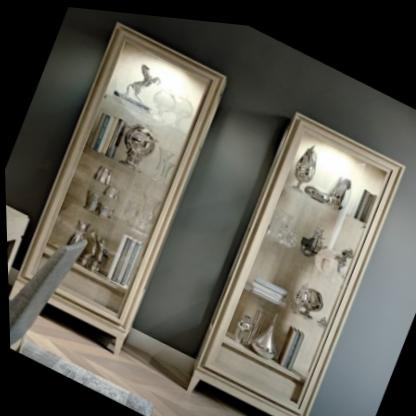Cupboard: (14, 20, 227, 353), (184, 104, 404, 416)
